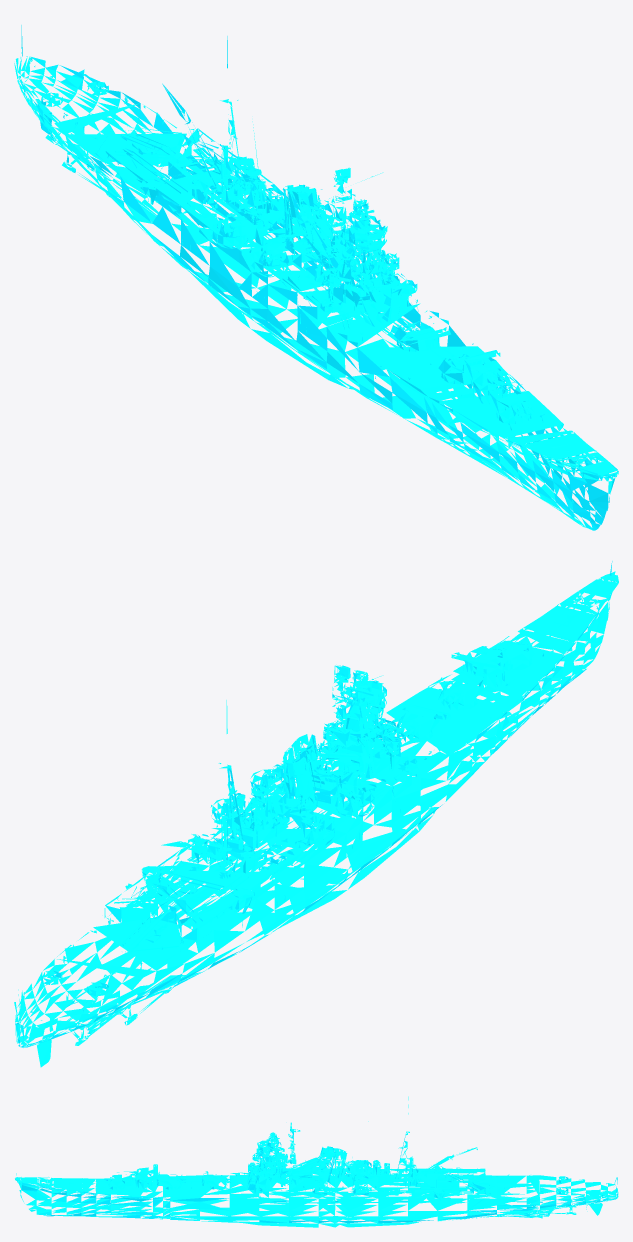
File: Chikuma_Hyb.glb
3 renders of one model, top to bottom at view 1: azimuth 30°, elevation 25°; view 2: azimuth 150°, elevation 25°; view 3: azimuth 270°, elevation 25°, orthographic. The views are drawn at different scales.
Bounding box in the file's own units: 1.54 × 2.95 × 13.45.
